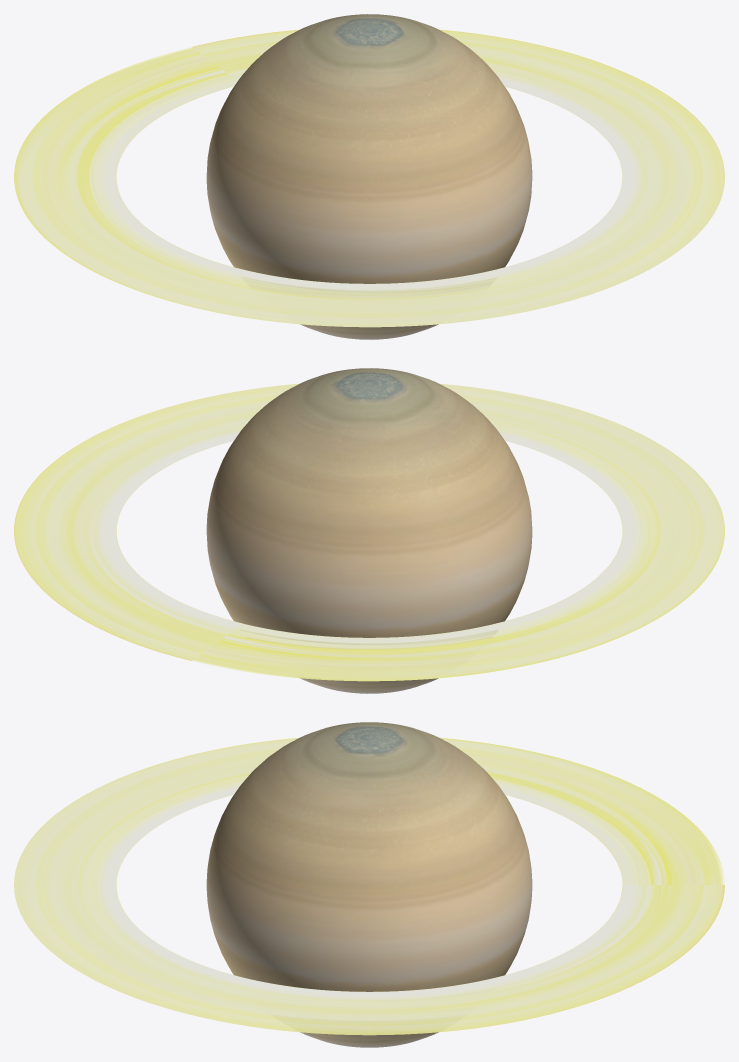
The model's file is centered_Saturn.glb.
The picture shows the model from 3 angles, top to bottom: view 1: azimuth 30°, elevation 25°; view 2: azimuth 150°, elevation 25°; view 3: azimuth 270°, elevation 25°; orthographic projection.
Visible parts, largest first — view 1: Saturn; view 2: Saturn; view 3: Saturn.
Boxes of the visible parts, box(x1,y1,x2,y2) form: Saturn: box(14, 14, 724, 339); Saturn: box(14, 368, 724, 693); Saturn: box(14, 722, 724, 1047).
Bounding box in the file's own units: 25.43 × 11.66 × 25.43.
Materials: 2 (2 with a texture image).
